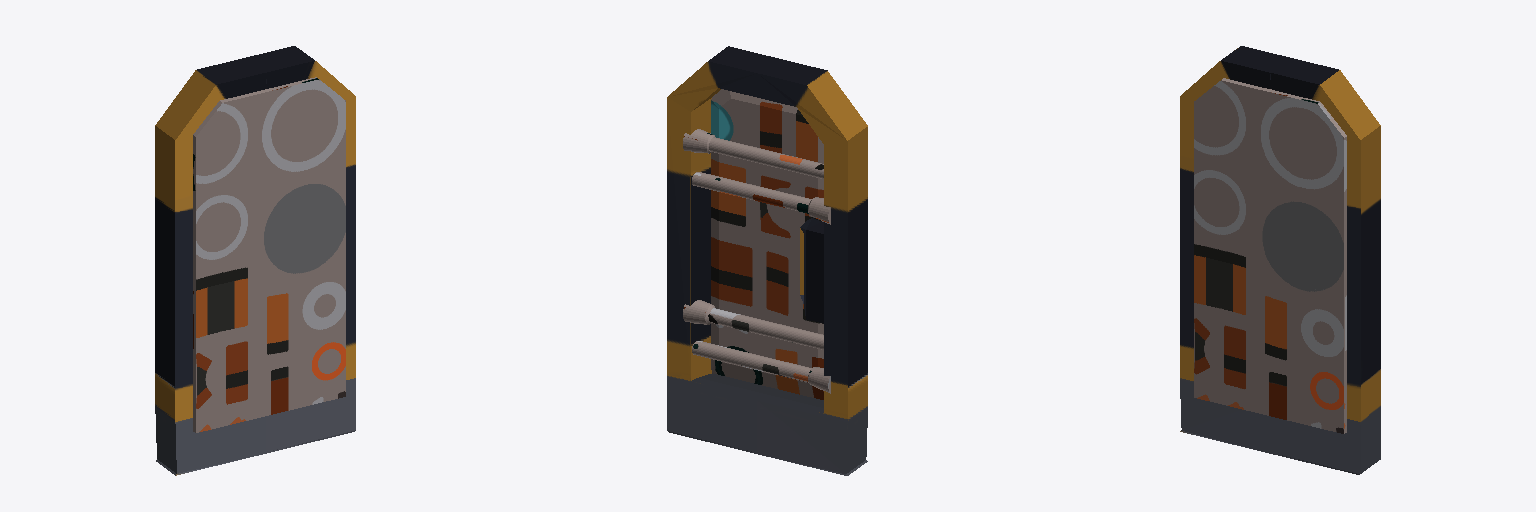
3 views of the same model, side by side, from view 1: azimuth 30°, elevation 25°; view 2: azimuth 150°, elevation 25°; view 3: azimuth 330°, elevation 25° (orthographic).
Parts seen in each view (by area): view 1: Door.001, DoorFrame; view 2: DoorFrame, Door.001, Lock.001, Lock.003, Lock, Lock.002; view 3: Door.001, DoorFrame.
Boxes of the visible parts, box(x1,y1,x2,y2) form: Door.001: box(193, 77, 345, 432); DoorFrame: box(155, 46, 355, 475); DoorFrame: box(667, 46, 867, 475); Door.001: box(711, 89, 823, 399); Lock.001: box(683, 300, 823, 349); Lock.003: box(683, 129, 823, 178); Lock: box(692, 172, 830, 224); Lock.002: box(692, 341, 830, 393); Door.001: box(1194, 78, 1346, 433); DoorFrame: box(1180, 46, 1380, 474).
Size of the model in its own units: 2.48 by 5 by 0.6111.
Materials: 2 (2 with a texture image).